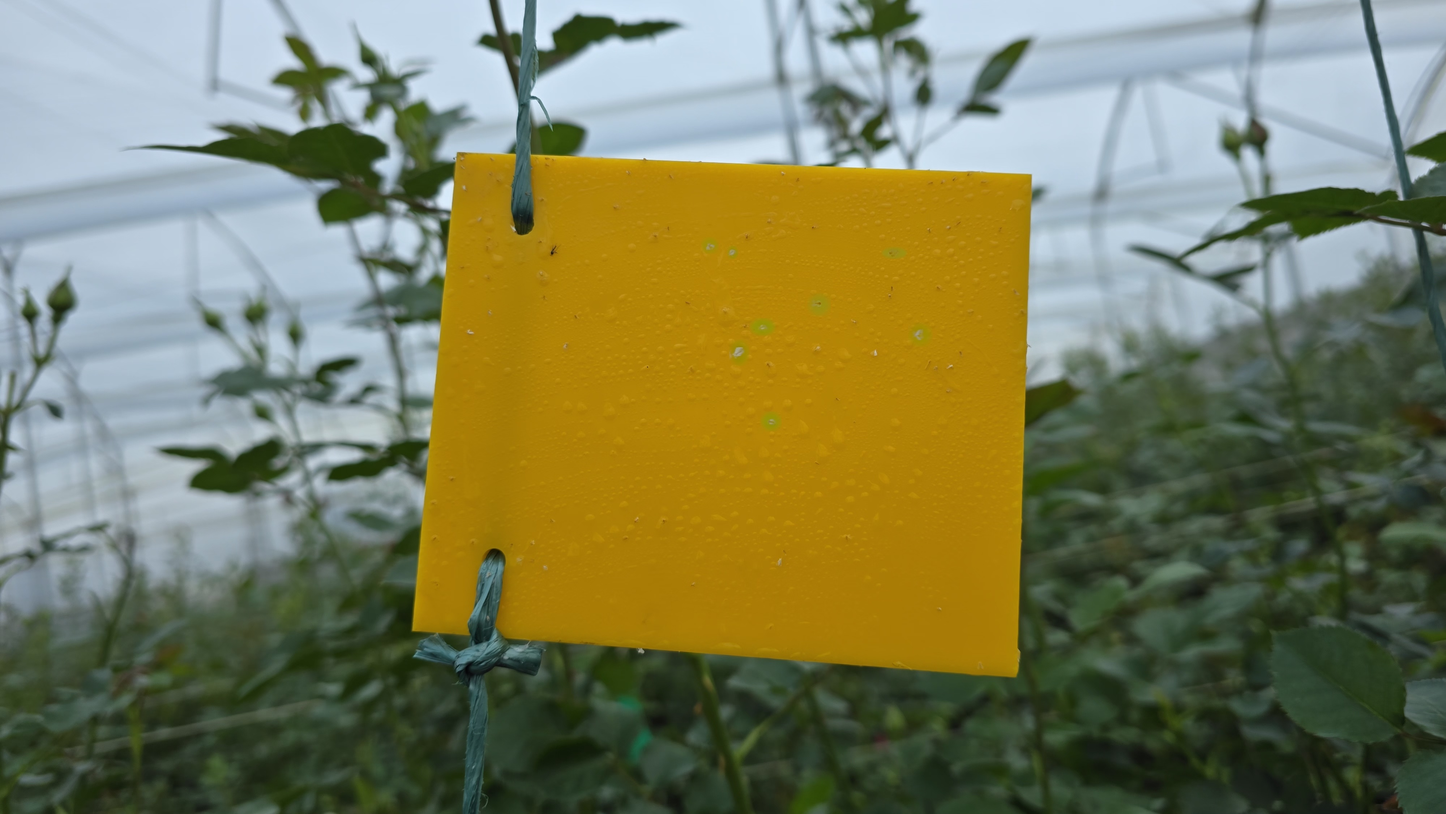WF: (810, 296, 827, 313), (912, 326, 928, 343), (732, 343, 746, 362), (753, 321, 771, 333), (763, 414, 778, 428), (885, 248, 903, 257), (703, 239, 715, 251), (466, 328, 476, 337), (870, 348, 879, 358), (775, 557, 784, 567), (728, 247, 736, 257), (946, 363, 954, 371), (510, 225, 517, 234), (543, 564, 549, 573), (462, 185, 469, 192)
